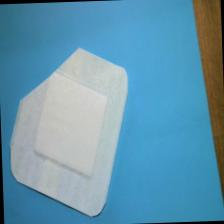Cut: (5, 42, 138, 224)
